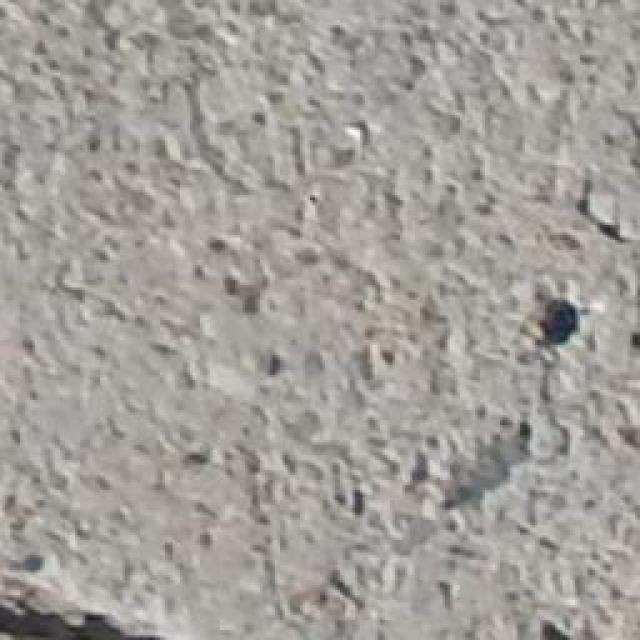concrete-crack: (0, 578, 186, 640), (538, 298, 588, 350)
